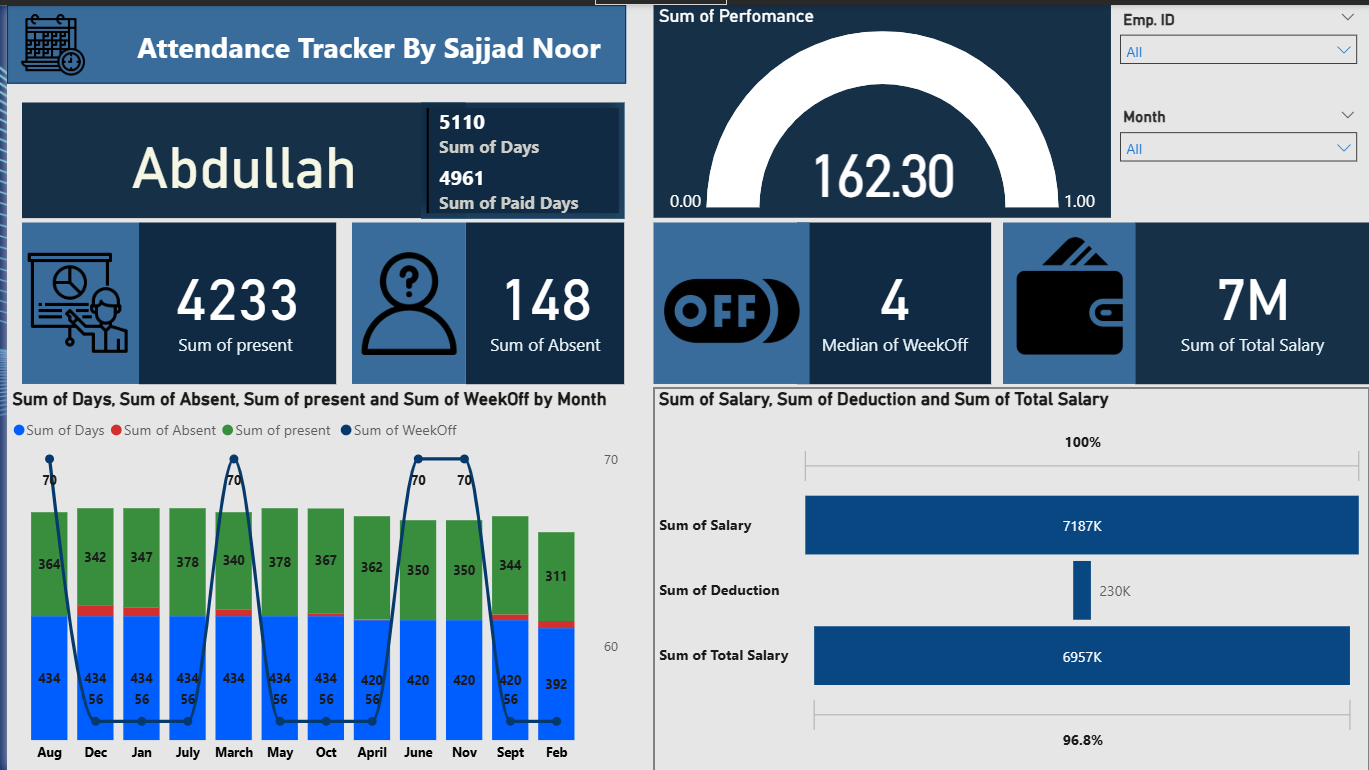

The page's visual inventory and layout, read from the dashboard file:
{"tool":"powerbi","page":{"name":"Page 1","canvas":[1280,720],"ordinal":0},"visuals":[{"type":"lineStackedColumnComboChart","fields":{"Category":["Append1.Month"],"Y":["Append1.Days","Append1.Absent","Append1.present "],"Y2":["Append1.WeekOff"]},"box":[0,359.5,580,361.1],"z":0},{"type":"funnel","fields":{"Y":["Append1.Salary","Append1.Deduction","Append1.Total Salary"]},"box":[607.1,359.5,672.6,361.1],"z":1000},{"type":"card","fields":{"Values":["Append1.present "]},"box":[124.6,204.5,185.3,151.8],"z":2000},{"type":"card","fields":{"Values":["Append1.Absent"]},"box":[431.4,204.5,148.6,151.8],"z":3000},{"type":"card","fields":{"Values":["Append1.WeekOff"]},"box":[742.9,204.5,182.1,151.8],"z":4000},{"type":"card","fields":{"Values":["Append1.Total Salary"]},"box":[1060.9,204.5,220.5,151.8],"z":5000},{"type":"slicer","fields":{"Values":["Append1.Emp. ID "]},"box":[1036.9,0,242.8,91.1],"z":6000},{"type":"slicer","fields":{"Values":["Append1.Month"]},"box":[1036.9,91.1,242.8,108.6],"z":7000},{"type":"card","fields":{"Values":["Append1.Name "]},"box":[14.4,91.1,417,108.6],"z":8000},{"type":"multiRowCard","fields":{"Values":["Append1.Days","Append1.Paid Days "]},"box":[389,91,191,109],"z":9000},{"type":"gauge","fields":{"Y":["Append1.Perfomance"]},"box":[607.1,0,429.8,199.7],"z":10000},{"type":"shape","box":[14.4,204.5,110.2,151.8],"z":11000},{"type":"shape","box":[324.3,204.5,107,151.8],"z":12000},{"type":"shape","box":[607.1,204.5,147,151.8],"z":13000},{"type":"shape","box":[936.2,204.5,124.6,151.8],"z":14000},{"type":"image","box":[324.3,226.9,107,107],"z":15000},{"type":"image","box":[14,226,104,108],"z":16000},{"type":"image","box":[607.1,218.9,147,137.4],"z":17000},{"type":"image","box":[930,204,136,138],"z":18000},{"type":"shape","box":[0,0,582,74],"z":19000},{"type":"textbox","box":[100,16,480,46],"z":20000},{"type":"image","box":[0,0,86,74],"z":21000}]}

Visuals, with their boxes in screenshot pixels (x1, y1, x2, y2), scaled from the page's 1280x720 canvas onto the 1369x770 screenshot:
lineStackedColumnComboChart - Append1.Month x Append1.Days: bbox=(0, 384, 620, 769)
funnel - Append1.Salary x Append1.Deduction: bbox=(649, 384, 1368, 769)
card - Append1.present : bbox=(133, 219, 331, 381)
card - Append1.Absent: bbox=(461, 219, 620, 381)
card - Append1.WeekOff: bbox=(795, 219, 989, 381)
card - Append1.Total Salary: bbox=(1135, 219, 1368, 381)
slicer - Append1.Emp. ID : bbox=(1109, 0, 1368, 97)
slicer - Append1.Month: bbox=(1109, 97, 1368, 214)
card - Append1.Name : bbox=(15, 97, 461, 214)
multiRowCard - Append1.Days x Append1.Paid Days : bbox=(416, 97, 620, 214)
gauge - Append1.Perfomance: bbox=(649, 0, 1109, 214)
shape: bbox=(15, 219, 133, 381)
shape: bbox=(347, 219, 461, 381)
shape: bbox=(649, 219, 807, 381)
shape: bbox=(1001, 219, 1135, 381)
image: bbox=(347, 243, 461, 357)
image: bbox=(15, 242, 126, 357)
image: bbox=(649, 234, 807, 381)
image: bbox=(995, 218, 1140, 366)
shape: bbox=(0, 0, 622, 79)
textbox: bbox=(107, 17, 620, 66)
image: bbox=(0, 0, 92, 79)
